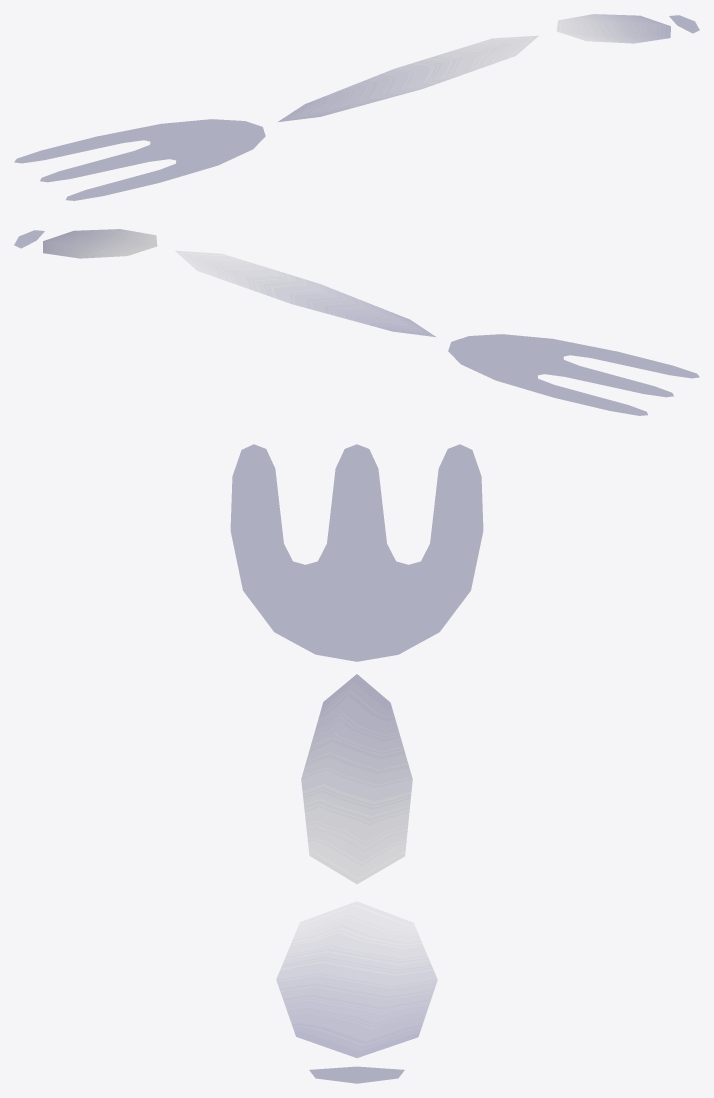
The model's file is utensil-fork.glb.
The picture shows the model from 3 angles, top to bottom: view 1: azimuth 30°, elevation 25°; view 2: azimuth 150°, elevation 25°; view 3: azimuth 270°, elevation 25°; orthographic projection. The views are drawn at different scales.
Parts seen in each view (by area): view 1: utensil-fork; view 2: utensil-fork; view 3: utensil-fork.
Boxes of the visible parts, left/top/right/bottom form: utensil-fork: left=14, top=14, right=699, bottom=200; utensil-fork: left=14, top=229, right=699, bottom=415; utensil-fork: left=230, top=444, right=483, bottom=1083.
Bounding box in the file's own units: 0.4933 × 0.0171 × 0.0824.
Materials: 1 (1 with a texture image).
